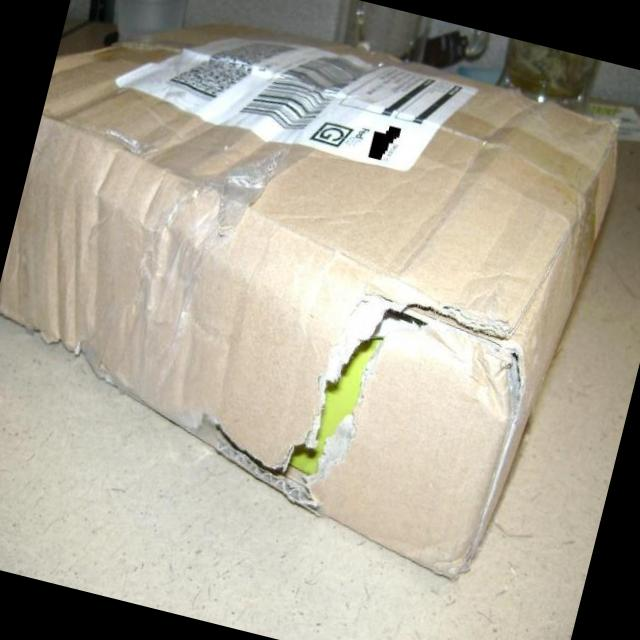crushed: (1, 59, 117, 373)
tear: (192, 308, 512, 509)
